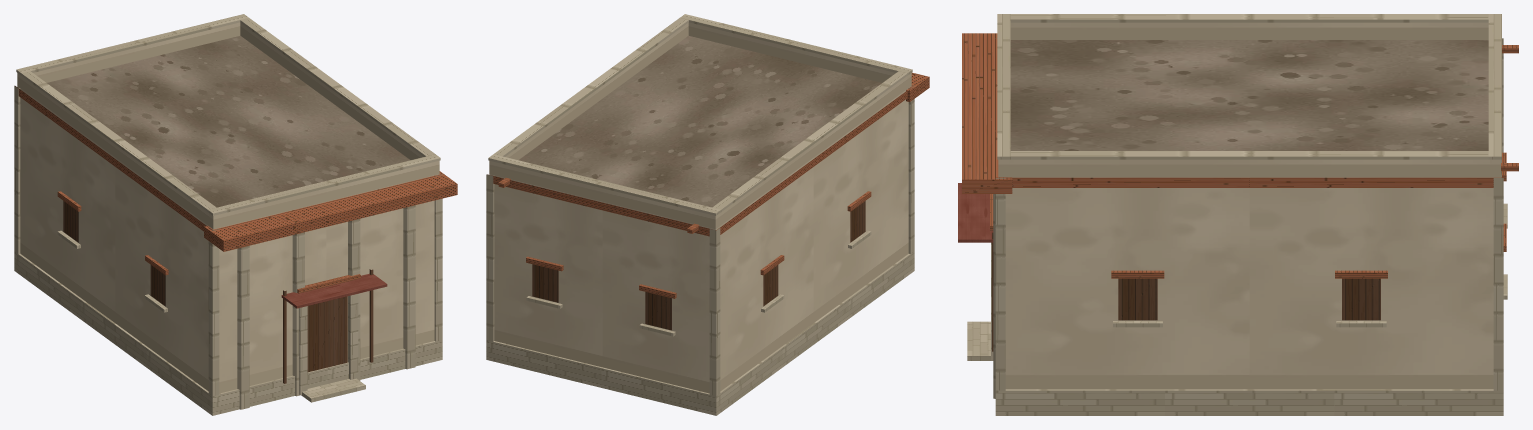
Rendered from ae_sand_stone_large_hall_lod0.glb.
The picture shows the model from 3 angles, left to right: view 1: azimuth 30°, elevation 25°; view 2: azimuth 150°, elevation 25°; view 3: azimuth 270°, elevation 25°; orthographic projection. The views are drawn at different scales.
Parts seen in each view (by area): view 1: ae_sand_stone_large_hall_lod0; view 2: ae_sand_stone_large_hall_lod0; view 3: ae_sand_stone_large_hall_lod0.
Boxes of the visible parts, x1,y1,x2,y2 form: ae_sand_stone_large_hall_lod0: [14, 14, 457, 415]; ae_sand_stone_large_hall_lod0: [486, 14, 929, 415]; ae_sand_stone_large_hall_lod0: [958, 14, 1518, 415].
Bounding box in the file's own units: 6.24 × 5.11 × 10.04.
Materials: 1 (1 with a texture image).
